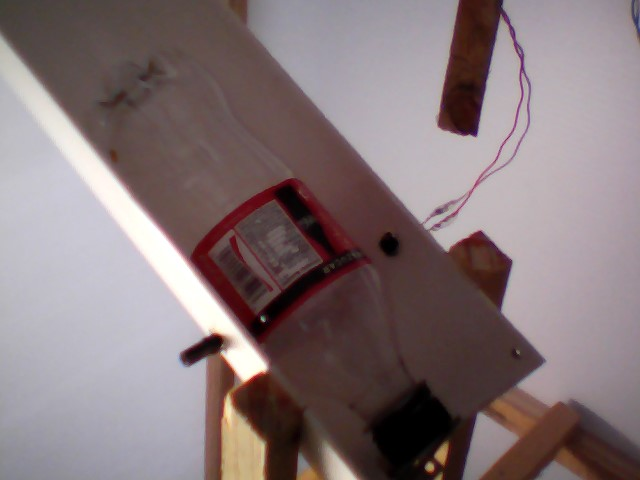plastico: (75, 38, 460, 470)
